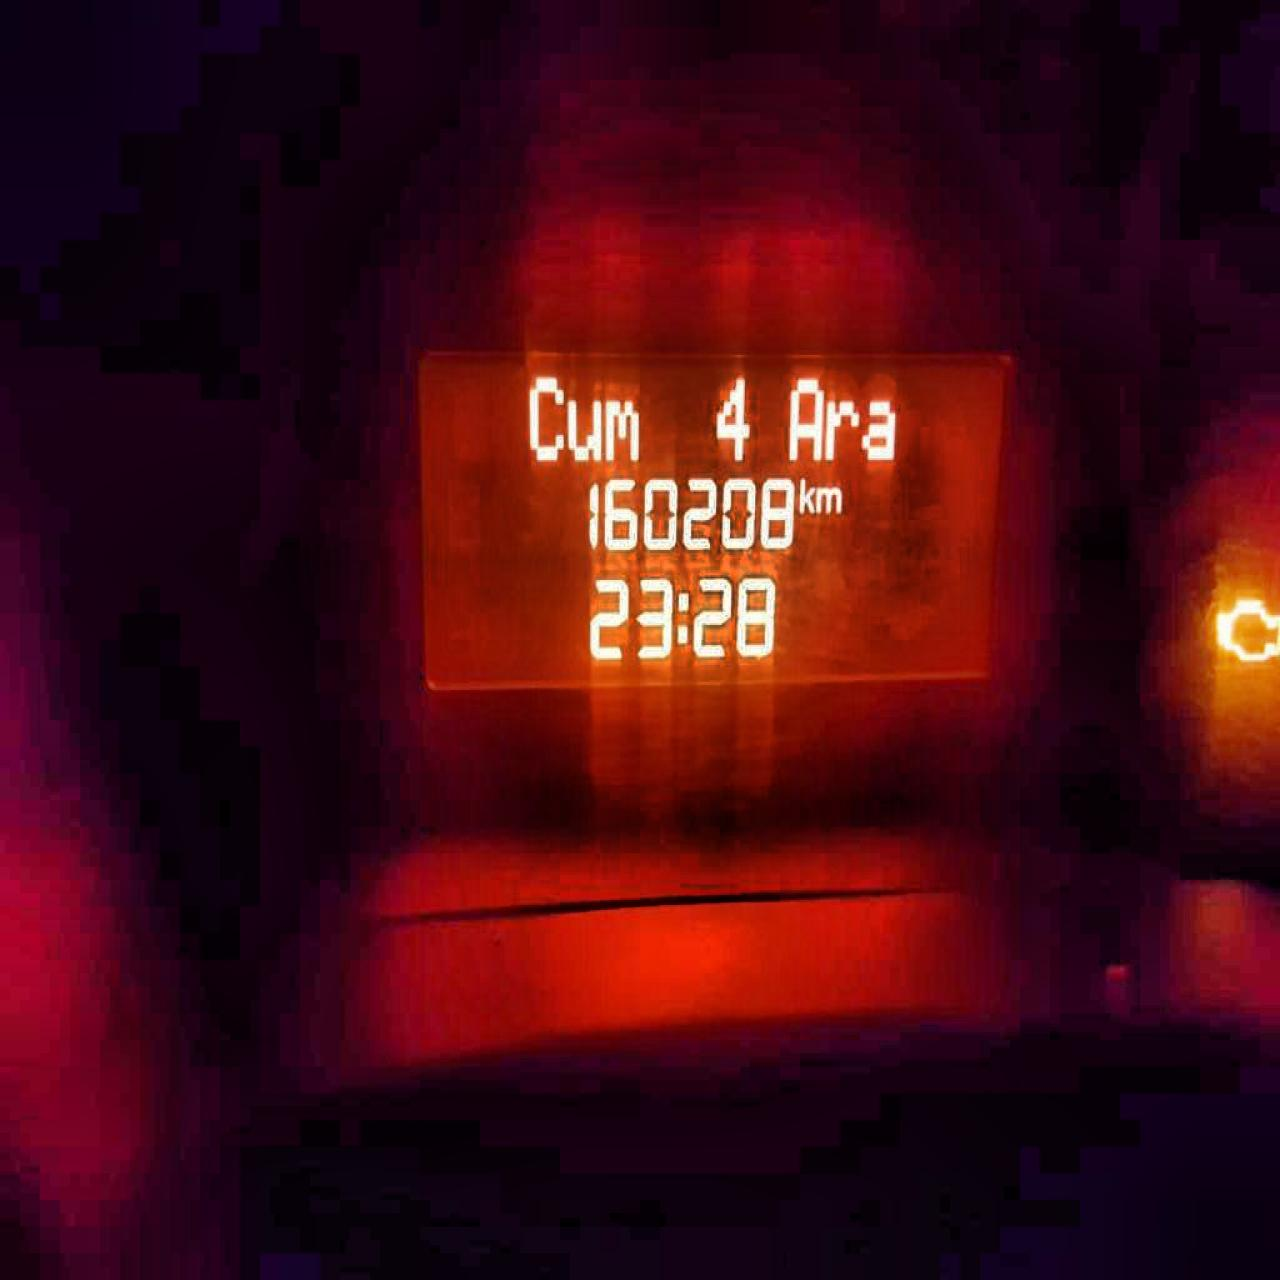0: (640, 475, 679, 552), (719, 474, 756, 552)
1: (578, 475, 601, 550)
2: (585, 573, 631, 663), (692, 572, 731, 660), (679, 475, 717, 552)
3: (635, 572, 674, 663)
4: (710, 369, 754, 463)
6: (601, 474, 638, 553)
8: (734, 573, 776, 660), (757, 474, 795, 552)
X: (524, 368, 563, 464), (787, 372, 823, 463), (602, 395, 640, 465), (566, 392, 602, 463), (860, 396, 896, 463), (825, 395, 857, 463), (673, 585, 689, 648), (816, 482, 843, 516), (796, 470, 813, 515)
odometer: (409, 345, 1014, 703)
